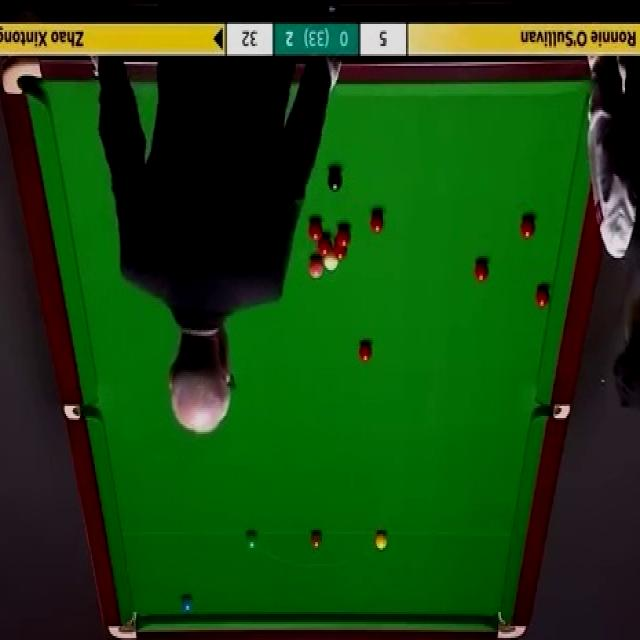pocket: (2, 59, 43, 99), (108, 610, 138, 639), (498, 612, 524, 639), (64, 401, 100, 420), (536, 398, 568, 419)
